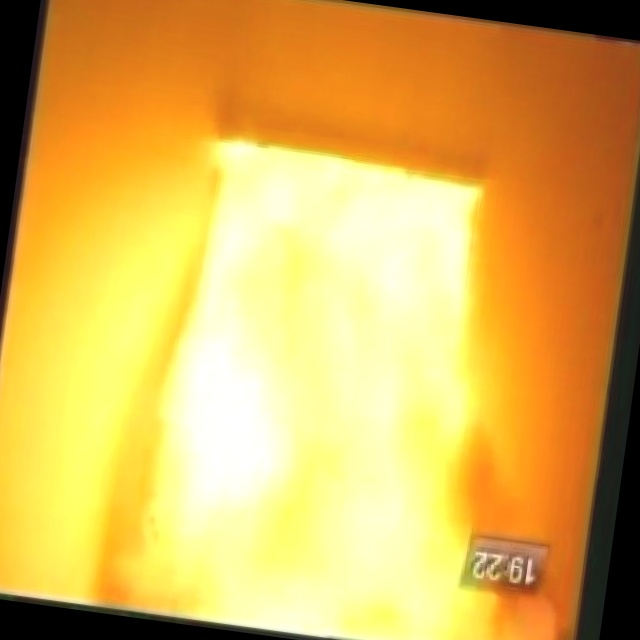fire: (56, 82, 603, 640)
